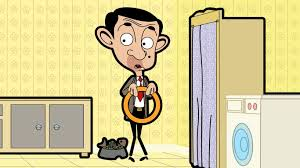mrbean: (95, 6, 171, 162)
